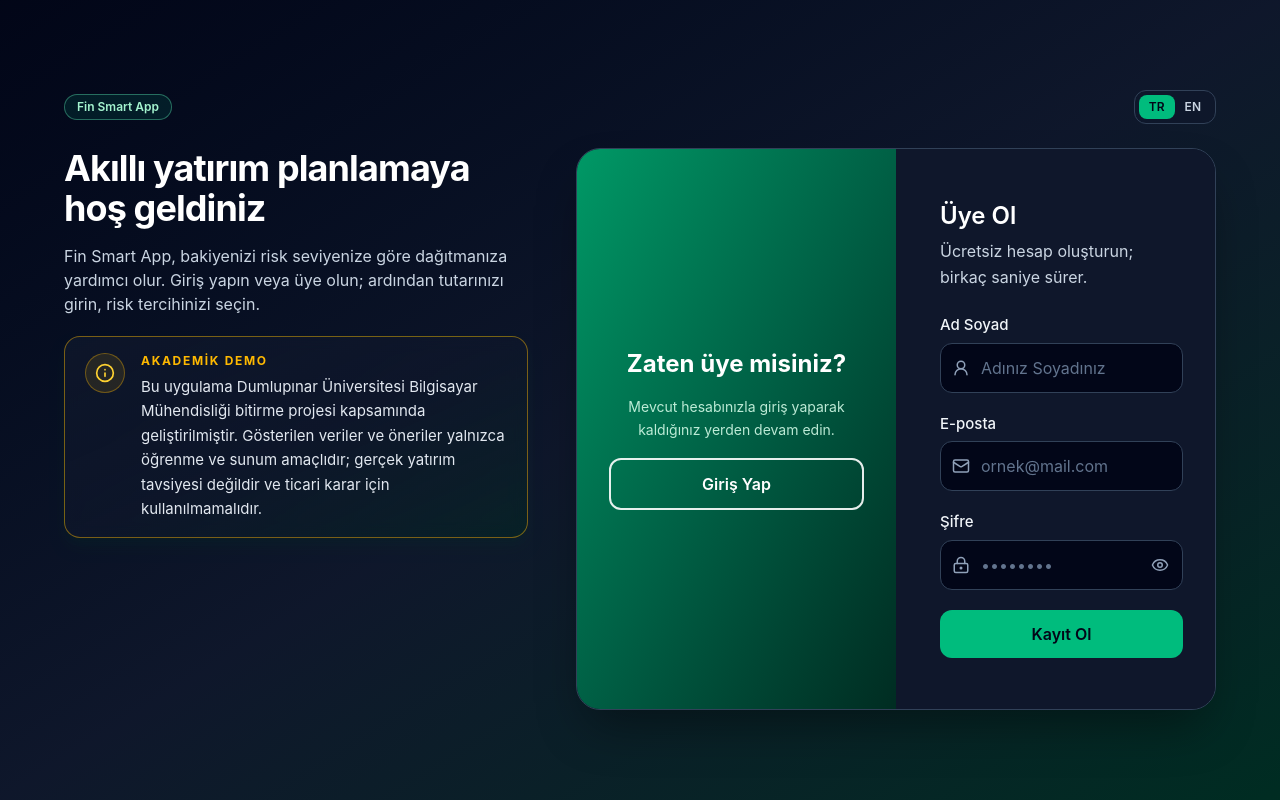
Scenario: LoginPage › switches to sign-in panel when clicking go to login from gradient
The image size is (1280, 800).
Click the button with test id "promo-go-login".
click(736, 484)  # box [609, 458, 864, 510]
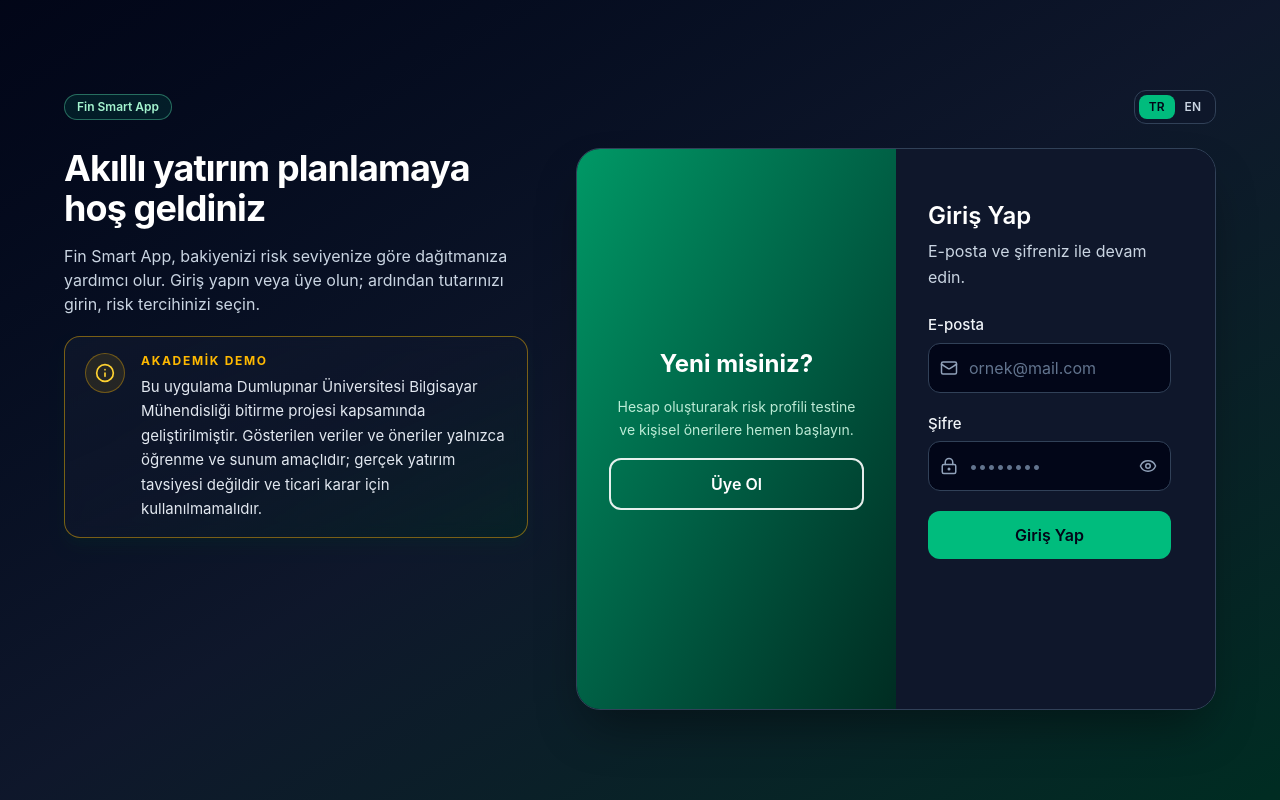
Check: the heading "Giriş Yap" is shown, box [928, 201, 1031, 230]
Check: the field with id "signin-email" is shown, box [928, 343, 1171, 393]
